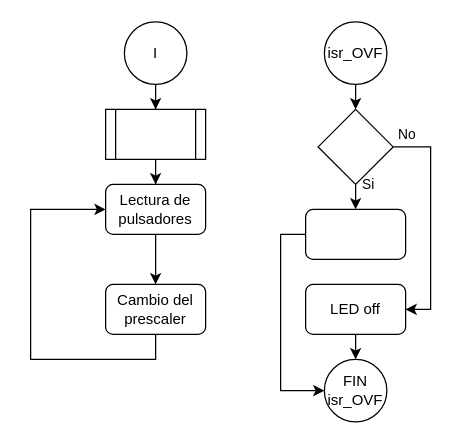
The diagram is 463 pixels wide and 444 high, and some of its shapes have lost their labels. The centre of each missing label's shape, as x and y in pixels:
Config: point 155,133
LED off?: point 355,146
LED on: point 355,233
